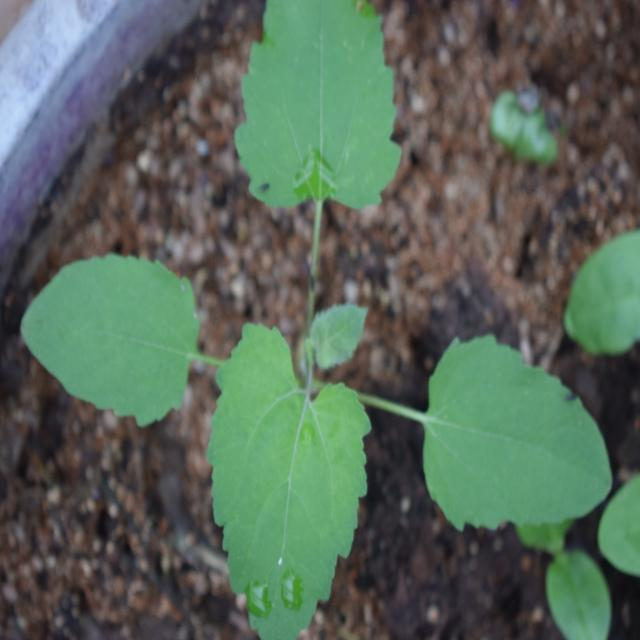cocklebur: (42, 14, 599, 598)
